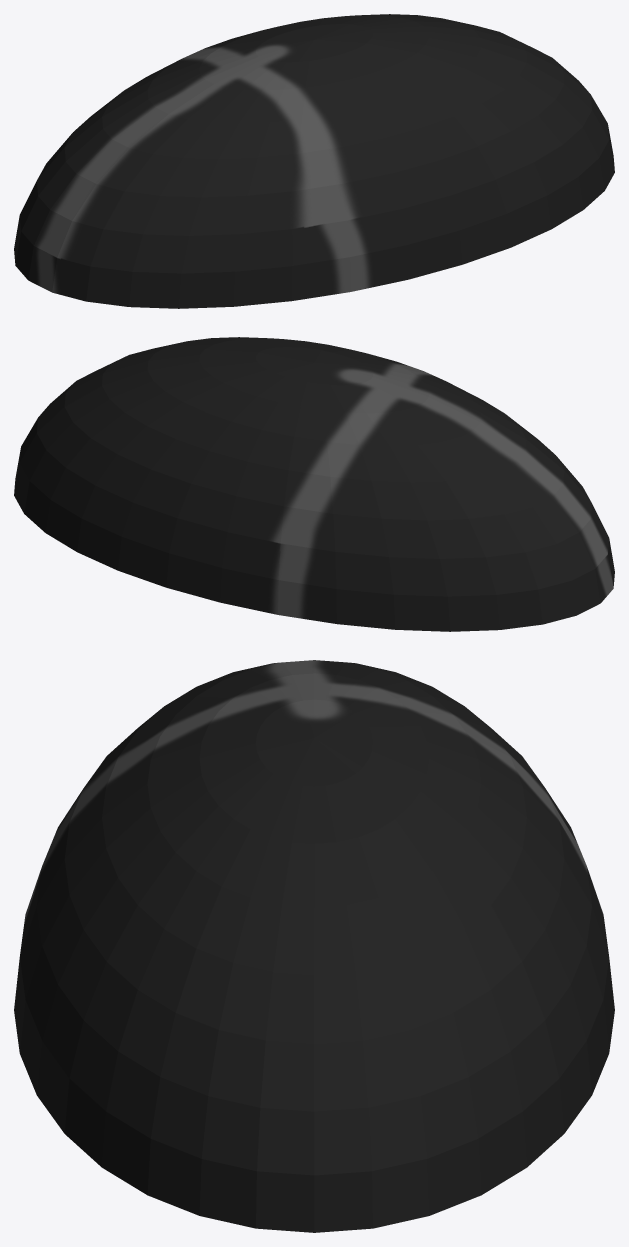
Rendered from Mouse.glb.
3 views of the same model, one above another, from view 1: azimuth 30°, elevation 25°; view 2: azimuth 150°, elevation 25°; view 3: azimuth 270°, elevation 25° (orthographic). The views are drawn at different scales.
Visible parts, largest first — view 1: Sphere; view 2: Sphere; view 3: Sphere.
Boxes of the visible parts, bbox=[...] form: Sphere: bbox=[14, 14, 614, 308]; Sphere: bbox=[14, 337, 614, 631]; Sphere: bbox=[14, 660, 614, 1232].
Bounding box in the file's own units: 3.51 × 1 × 2.
Materials: 1 (1 with a texture image).
